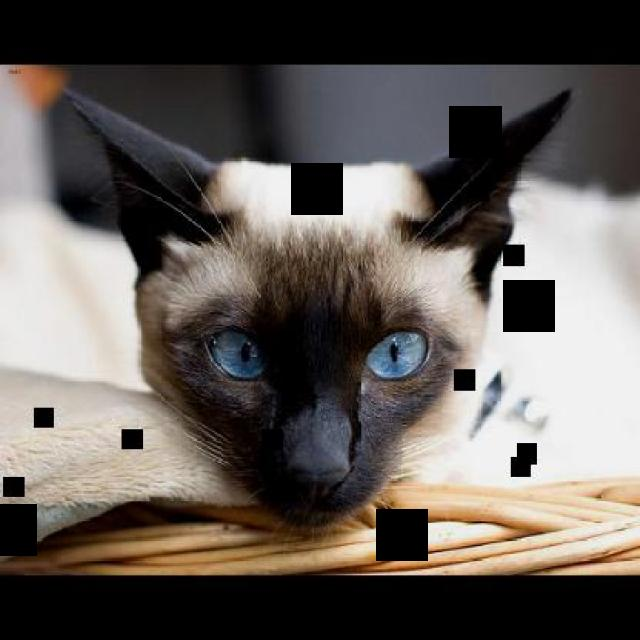unauthorized: (60, 82, 574, 530)
